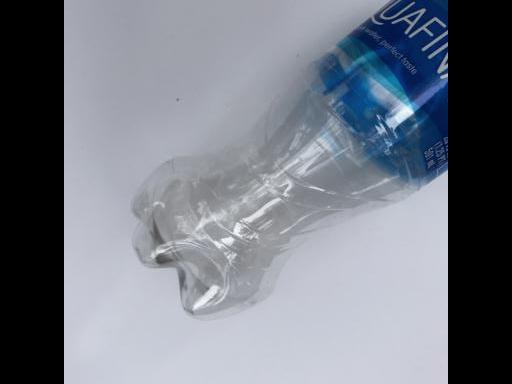PET: (128, 0, 447, 320)
aquafina: (128, 0, 447, 320)
plastic: (128, 0, 447, 320)
water: (128, 0, 447, 320)
